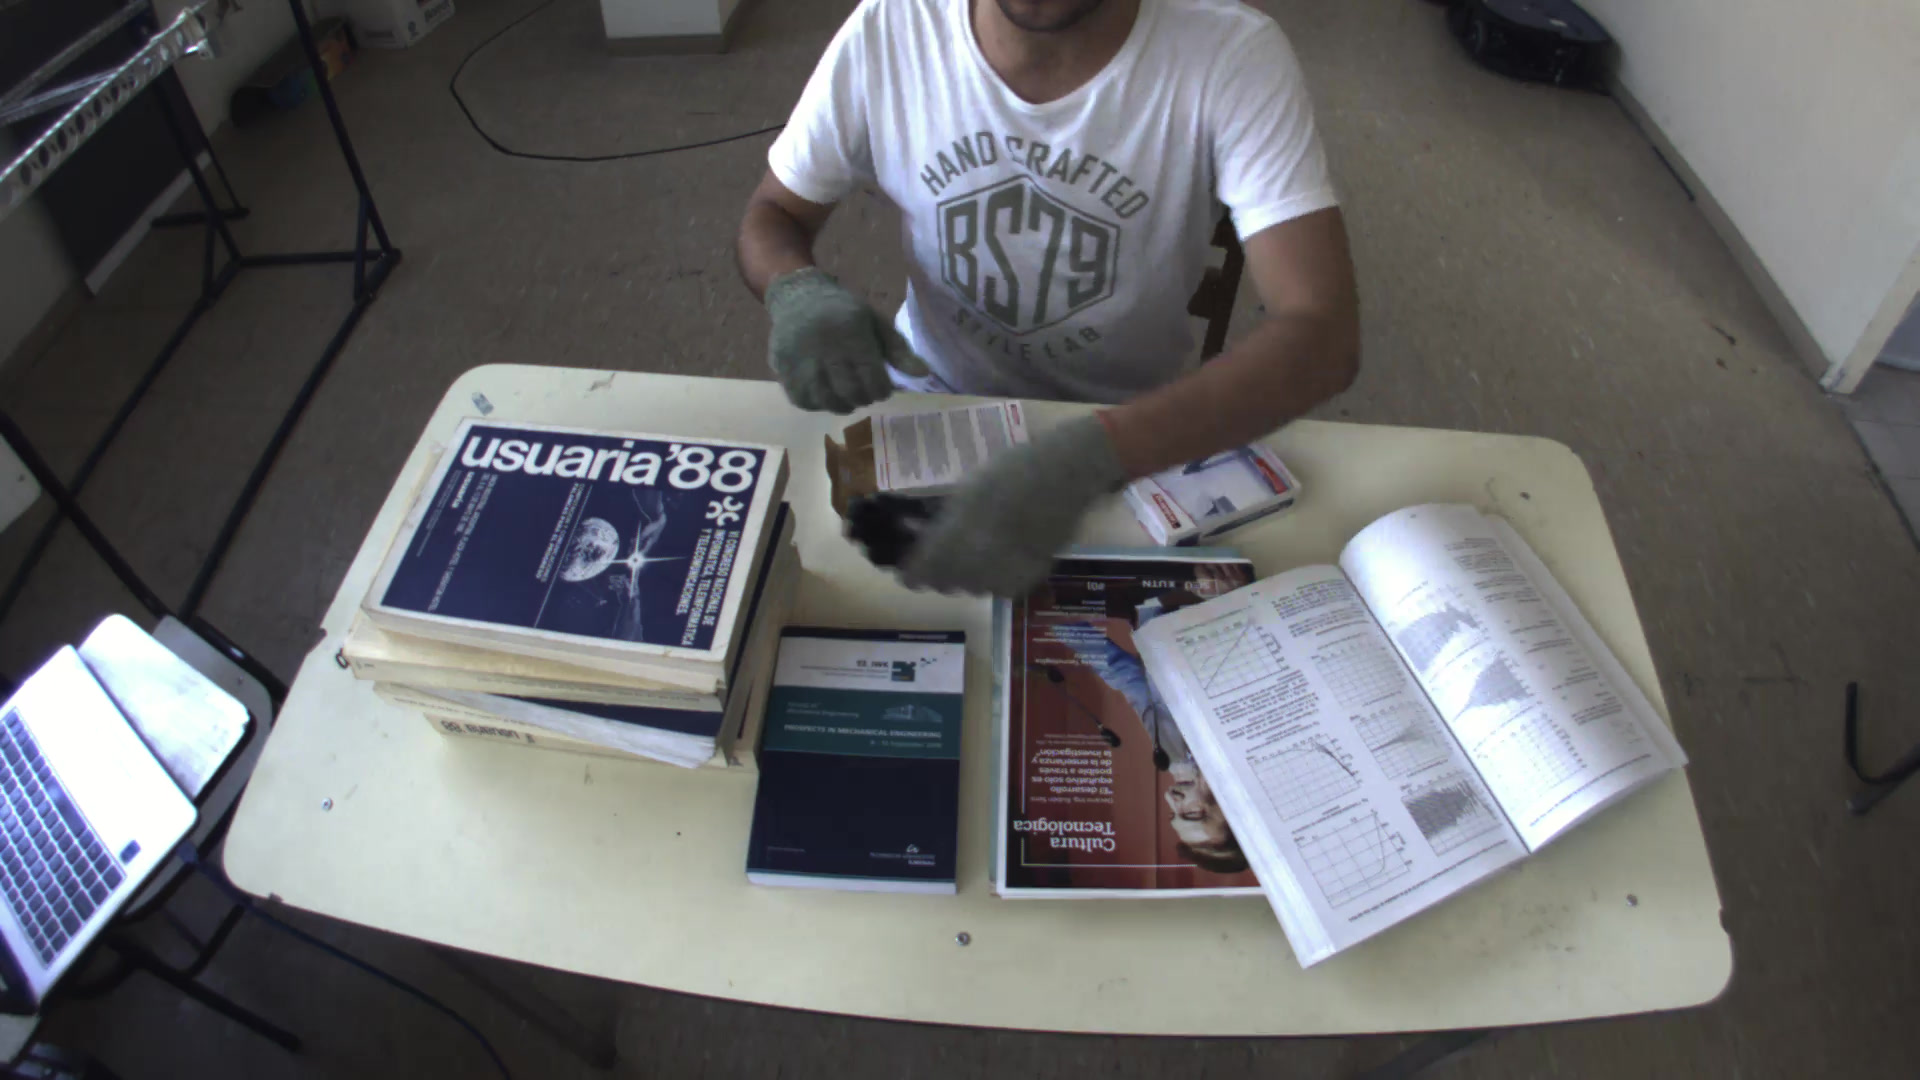hand: (837, 435, 1137, 612), (746, 265, 905, 415)
